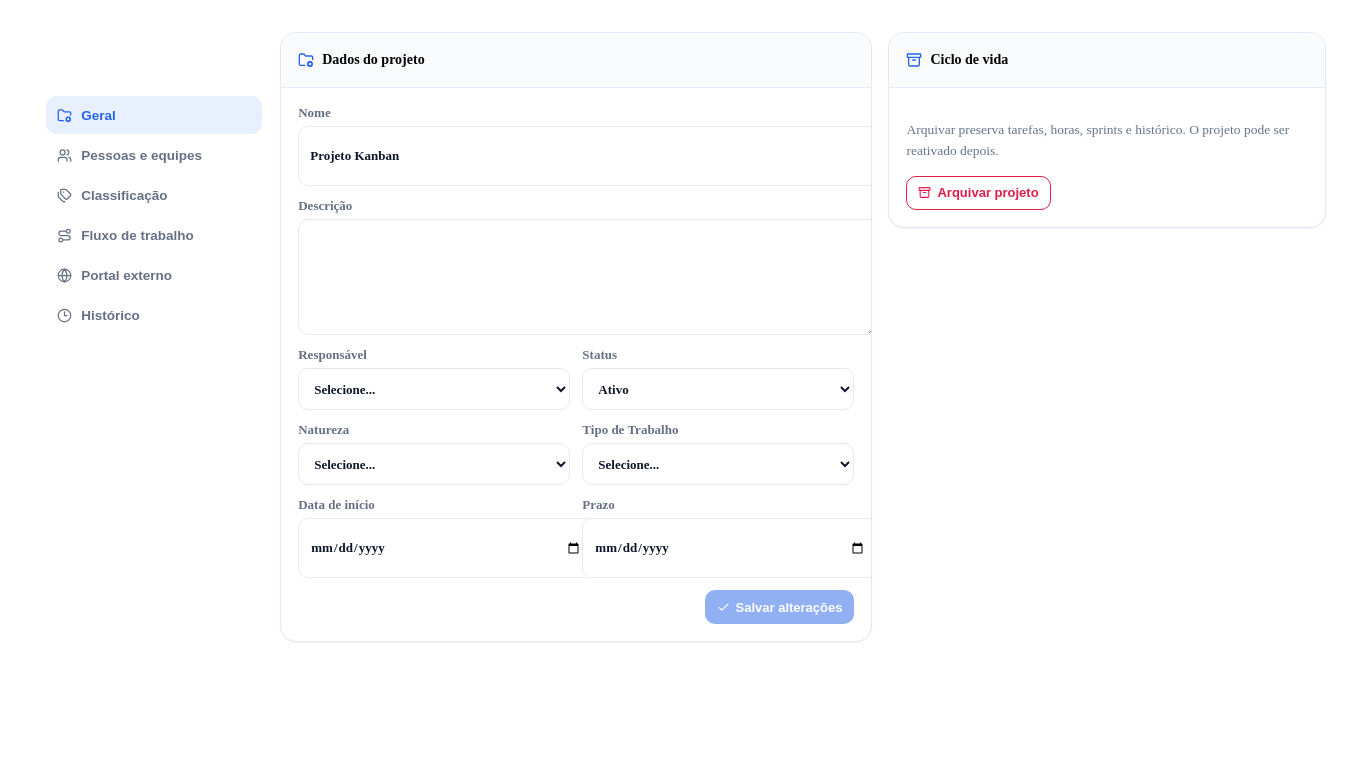
configurações do projeto por categoria › troca de categoria ao escolher no menu
Click the button "Pessoas e equipes".
click(154, 155)  # box [46, 136, 262, 174]
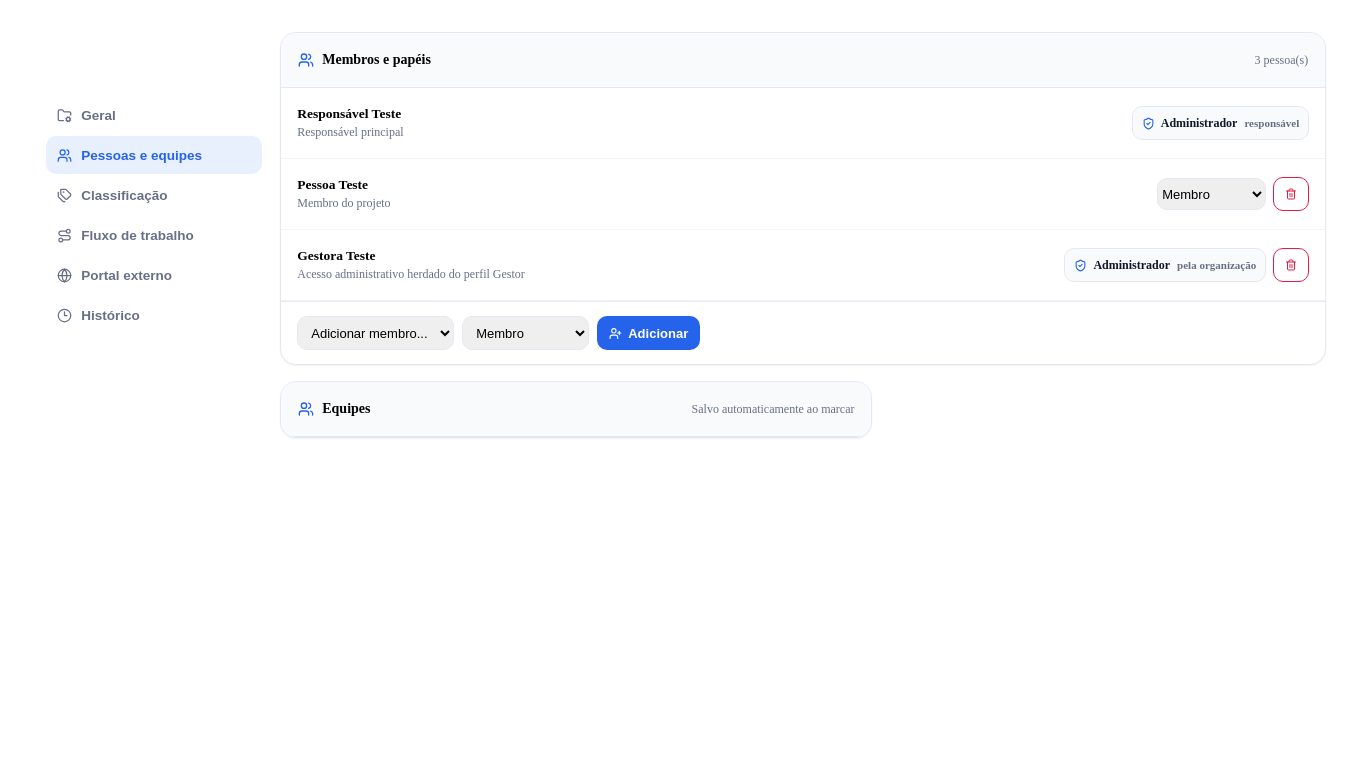
Now the heading "Membros e papéis" is shown, box [322, 52, 431, 68]
Now the heading "Equipes" is shown, box [322, 401, 370, 417]
Now the heading "Dados do projeto" is gone
